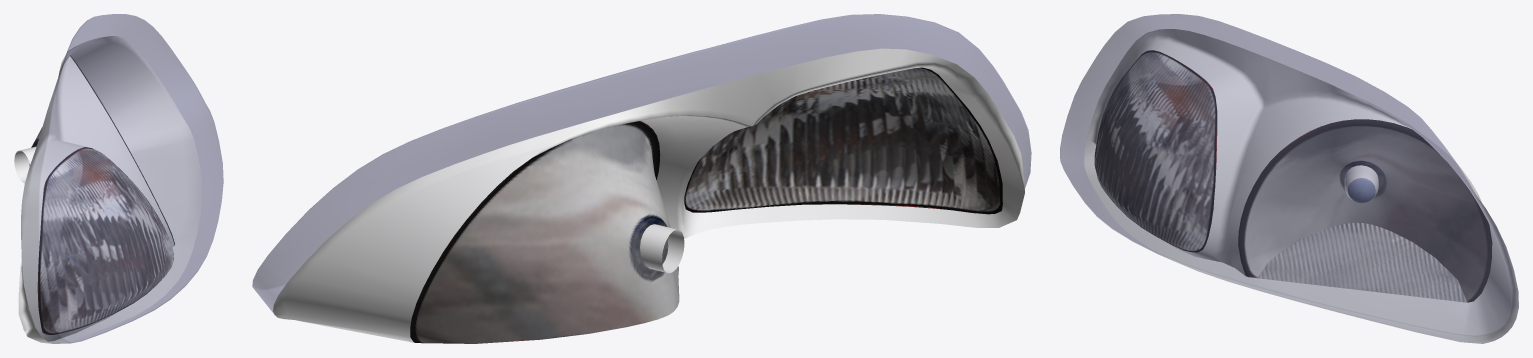
3 renders of one model, left to right at view 1: azimuth 30°, elevation 25°; view 2: azimuth 150°, elevation 25°; view 3: azimuth 270°, elevation 25°, orthographic. The views are drawn at different scales.
Parts seen in each view (by area): view 1: H025_10_061B_R_1_DTaSI_H025_10_061B_R, H025_10_061B_R_H025_10_061B_R_2_N; view 2: H025_10_061B_R_H025_10_061B_R_2_N, H025_10_061B_R_1_DTaSI_H025_10_061B_R; view 3: H025_10_061B_R_1_DTaSI_H025_10_061B_R, H025_10_061B_R_H025_10_061B_R_2_N.
Part boxes in pixels (x1=…): H025_10_061B_R_1_DTaSI_H025_10_061B_R: x1=21, y1=14, x2=223, y2=343; H025_10_061B_R_H025_10_061B_R_2_N: x1=14, y1=36, x2=202, y2=343; H025_10_061B_R_H025_10_061B_R_2_N: x1=273, y1=48, x2=1024, y2=343; H025_10_061B_R_1_DTaSI_H025_10_061B_R: x1=252, y1=14, x2=1031, y2=313; H025_10_061B_R_1_DTaSI_H025_10_061B_R: x1=1060, y1=14, x2=1518, y2=343; H025_10_061B_R_H025_10_061B_R_2_N: x1=1084, y1=29, x2=1518, y2=343.
Size of the model in its own units: 36.95 by 18.15 by 38.69.
